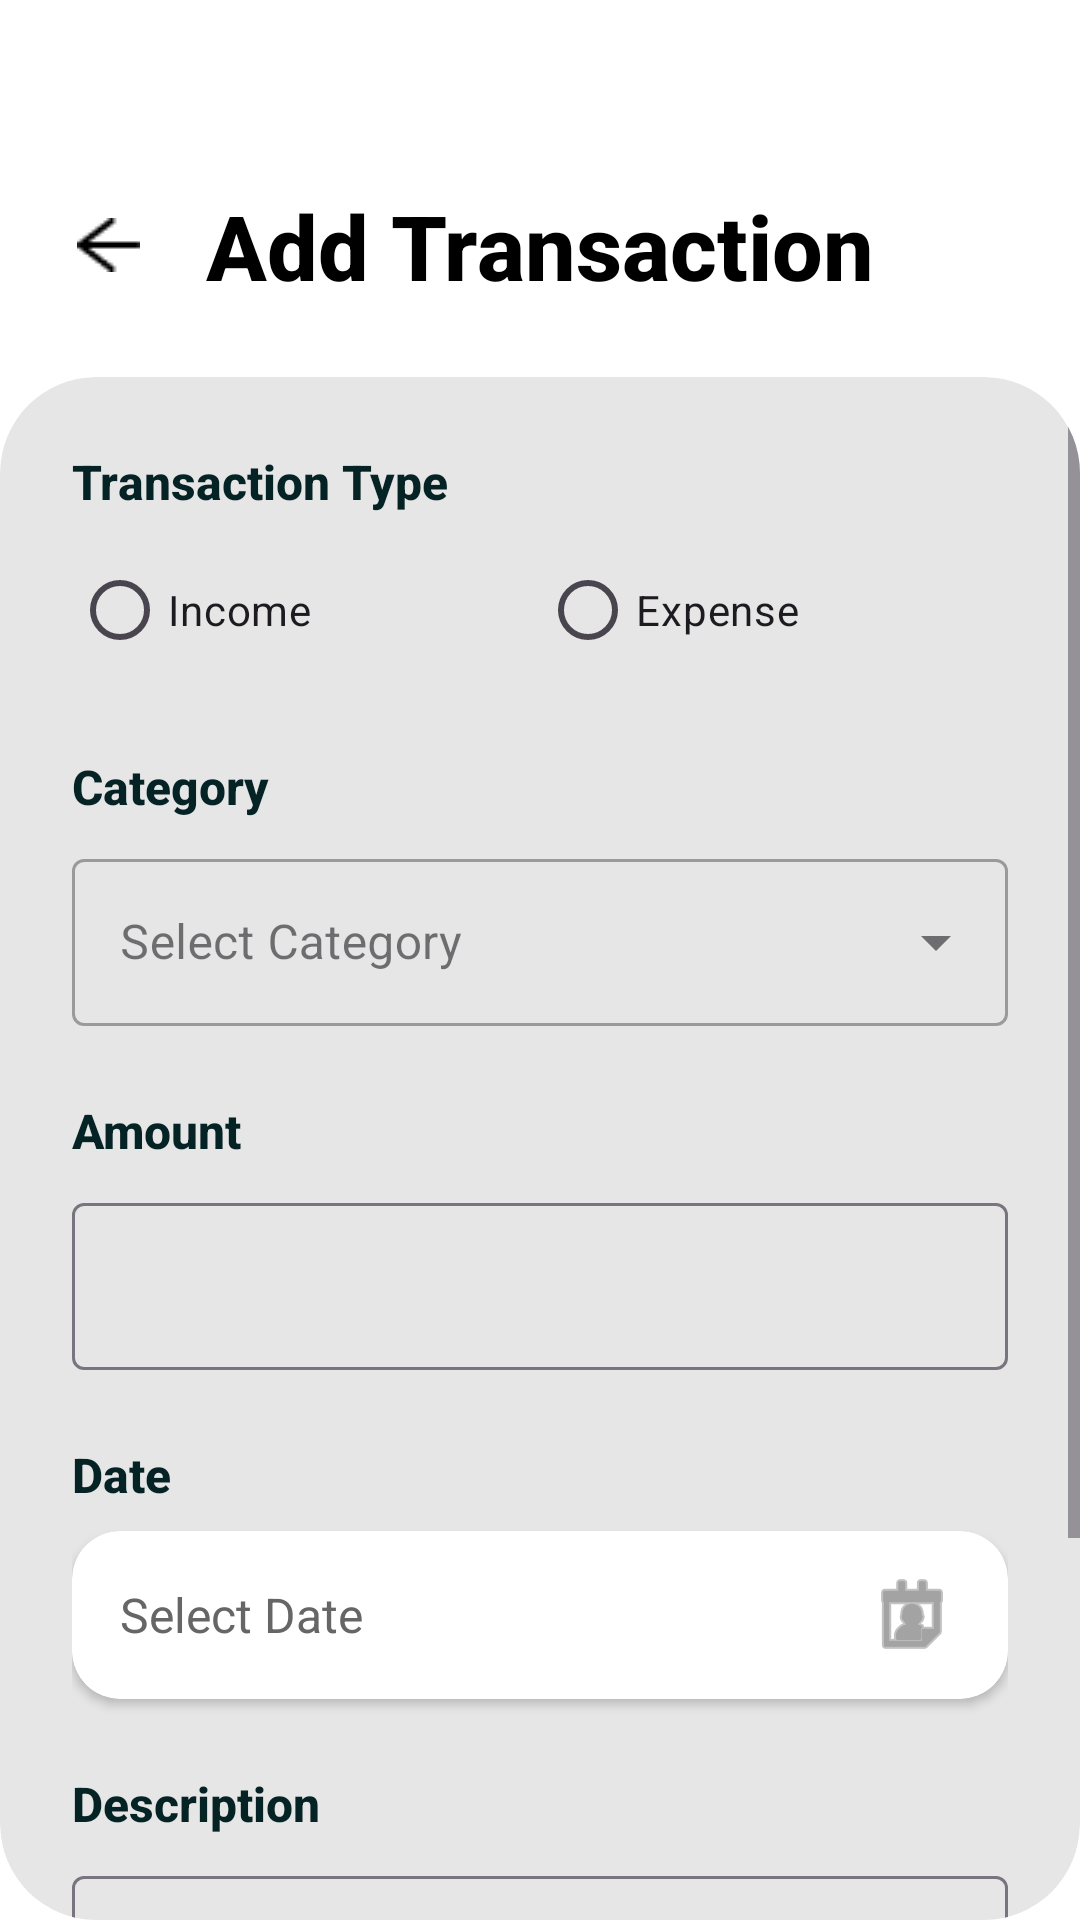

Locate icon controls on the screen. Image size 1080 × 1920, boxes as (x1, y1, x2, y2).
Back: (77, 218, 140, 272)
